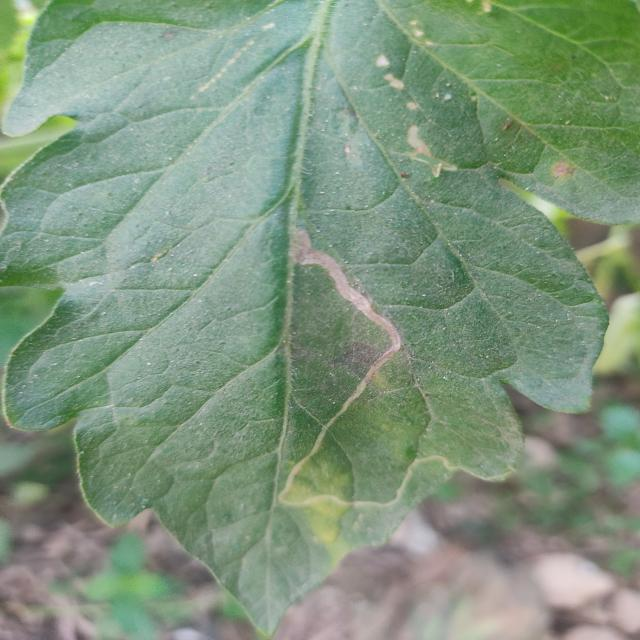Tuta absoluta: (278, 230, 464, 517), (395, 123, 460, 186)
